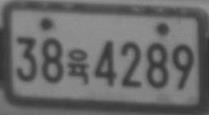2: (120, 41, 143, 88)
3: (15, 36, 37, 82)
4: (93, 39, 118, 87)
8: (40, 37, 65, 83), (146, 42, 169, 88)
9: (171, 44, 195, 90)
육: (66, 48, 91, 85)
